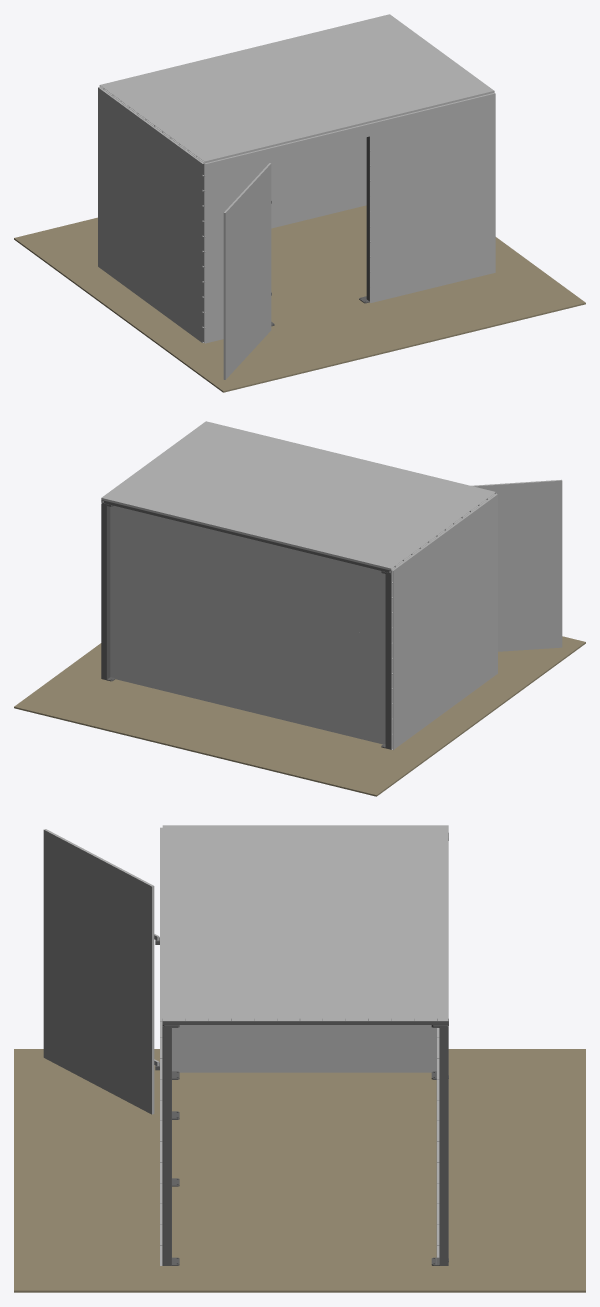
The model's file is grinding_workcell.dae.
The picture shows the model from 3 angles, top to bottom: view 1: azimuth 30°, elevation 25°; view 2: azimuth 150°, elevation 25°; view 3: azimuth 270°, elevation 25°; orthographic projection. The views are drawn at different scales.
Parts seen in each view (by area): view 1: C5_2_-_sol_2-1, C5_2_-_porte_manutention-1, C5_2_-_Planche_4000_x_162_x_25-1, C5_2_-_Planche_4000_x_200_x_25-1, C5_2_-_Planche_4000_x_200_x_25-3, C5_2_-_Planche_4000_x_200_x_25-10, C5_2_-_Planche_4000_x_200_x_25-11, C5_2_-_Planche_4000_x_200_x_25-12, C5_2_-_Planche_4000_x_200_x_25-2, C5_2_-_Planche_4000_x_200_x_25-5, C5_2_-_Planche_4000_x_200_x_25-6, C5_2_-_Planche_4000_x_200_x_25-7 (+35 smaller); view 2: C5_2_-_sol_2-1, C5_2_-_porte_manutention-1, C5_2_-_Planche_4000_x_200_x_25-32, C5_2_-_Planche_4000_x_200_x_25-25, C5_2_-_Planche_4000_x_200_x_25-28, C5_2_-_Planche_4000_x_200_x_25-31, C5_2_-_Planche_4000_x_200_x_25-27, C5_2_-_Planche_4000_x_200_x_25-26, C5_2_-_Planche_4000_x_200_x_25-29, C5_2_-_Planche_4000_x_200_x_25-33, C5_2_-_Planche_4000_x_200_x_25-34, C5_2_-_Planche_4000_x_200_x_25-30 (+30 smaller); view 3: C5_2_-_sol_2-1, C5_2_-_porte_manutention-1, C5_2_-_Planche_2500_x_200_x_25-13, C5_2_-_Planche_2500_x_200_x_25-24, C5_2_-_Planche_4000_x_200_x_25-1, C5_2_-_Planche_4000_x_200_x_25-2, C5_2_-_Planche_4000_x_200_x_25-3, C5_2_-_Planche_4000_x_200_x_25-4, C5_2_-_Planche_4000_x_200_x_25-9, C5_2_-_Planche_4000_x_200_x_25-10, C5_2_-_Planche_4000_x_200_x_25-11, C5_2_-_Planche_4000_x_200_x_25-12 (+10 smaller).
Boxes of the visible parts, box(x1,y1,x2,y2) form: C5_2_-_sol_2-1: box(14, 205, 585, 392); C5_2_-_porte_manutention-1: box(223, 163, 271, 379); C5_2_-_Planche_4000_x_162_x_25-1: box(204, 92, 495, 176); C5_2_-_Planche_4000_x_200_x_25-1: box(196, 85, 494, 163); C5_2_-_Planche_4000_x_200_x_25-3: box(179, 72, 477, 150); C5_2_-_Planche_4000_x_200_x_25-10: box(120, 29, 418, 107); C5_2_-_Planche_4000_x_200_x_25-11: box(112, 23, 410, 101); C5_2_-_Planche_4000_x_200_x_25-12: box(104, 17, 401, 95); C5_2_-_Planche_4000_x_200_x_25-2: box(187, 78, 485, 156); C5_2_-_Planche_4000_x_200_x_25-5: box(162, 60, 460, 138); C5_2_-_Planche_4000_x_200_x_25-6: box(154, 54, 452, 132); C5_2_-_Planche_4000_x_200_x_25-7: box(145, 48, 443, 126); C5_2_-_sol_2-1: box(14, 636, 585, 796); C5_2_-_porte_manutention-1: box(471, 479, 562, 651); C5_2_-_Planche_4000_x_200_x_25-32: box(110, 541, 385, 623); C5_2_-_Planche_4000_x_200_x_25-25: box(110, 647, 385, 729); C5_2_-_Planche_4000_x_200_x_25-28: box(110, 602, 385, 684); C5_2_-_Planche_4000_x_200_x_25-31: box(110, 556, 385, 638); C5_2_-_Planche_4000_x_200_x_25-27: box(110, 617, 385, 699); C5_2_-_Planche_4000_x_200_x_25-26: box(110, 632, 385, 714); C5_2_-_Planche_4000_x_200_x_25-29: box(110, 587, 385, 668); C5_2_-_Planche_4000_x_200_x_25-33: box(110, 526, 385, 608); C5_2_-_Planche_4000_x_200_x_25-34: box(110, 511, 385, 593); C5_2_-_Planche_4000_x_200_x_25-30: box(110, 571, 385, 653); C5_2_-_sol_2-1: box(14, 1049, 585, 1292); C5_2_-_porte_manutention-1: box(43, 829, 159, 1114); C5_2_-_Planche_2500_x_200_x_25-13: box(172, 1031, 436, 1051); C5_2_-_Planche_2500_x_200_x_25-24: box(172, 1052, 436, 1072); C5_2_-_Planche_4000_x_200_x_25-1: box(162, 825, 185, 1020); C5_2_-_Planche_4000_x_200_x_25-2: box(185, 825, 208, 1020); C5_2_-_Planche_4000_x_200_x_25-3: box(208, 825, 231, 1020); C5_2_-_Planche_4000_x_200_x_25-4: box(231, 825, 254, 1020); C5_2_-_Planche_4000_x_200_x_25-9: box(345, 825, 368, 1020); C5_2_-_Planche_4000_x_200_x_25-10: box(368, 825, 391, 1020); C5_2_-_Planche_4000_x_200_x_25-11: box(391, 825, 414, 1020); C5_2_-_Planche_4000_x_200_x_25-12: box(414, 825, 437, 1020).
Size of the model in its own units: 5 by 5 by 2.41.
